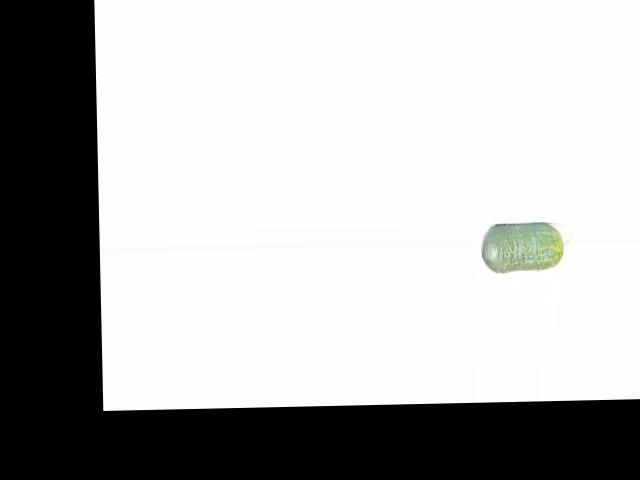cucumber: (481, 221, 574, 274)
